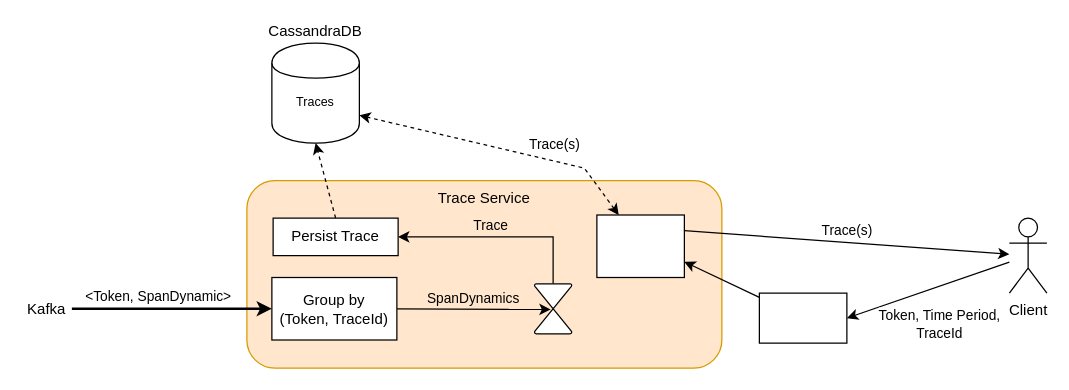
Image size: 1069x390. Some labels were removed from this diagram. Each missing label, with the centre of its shape:
Aggregate in 10s window: point 552,308
Request Trace(s): point 802,317
Retrieve Trace(s): point 640,246
